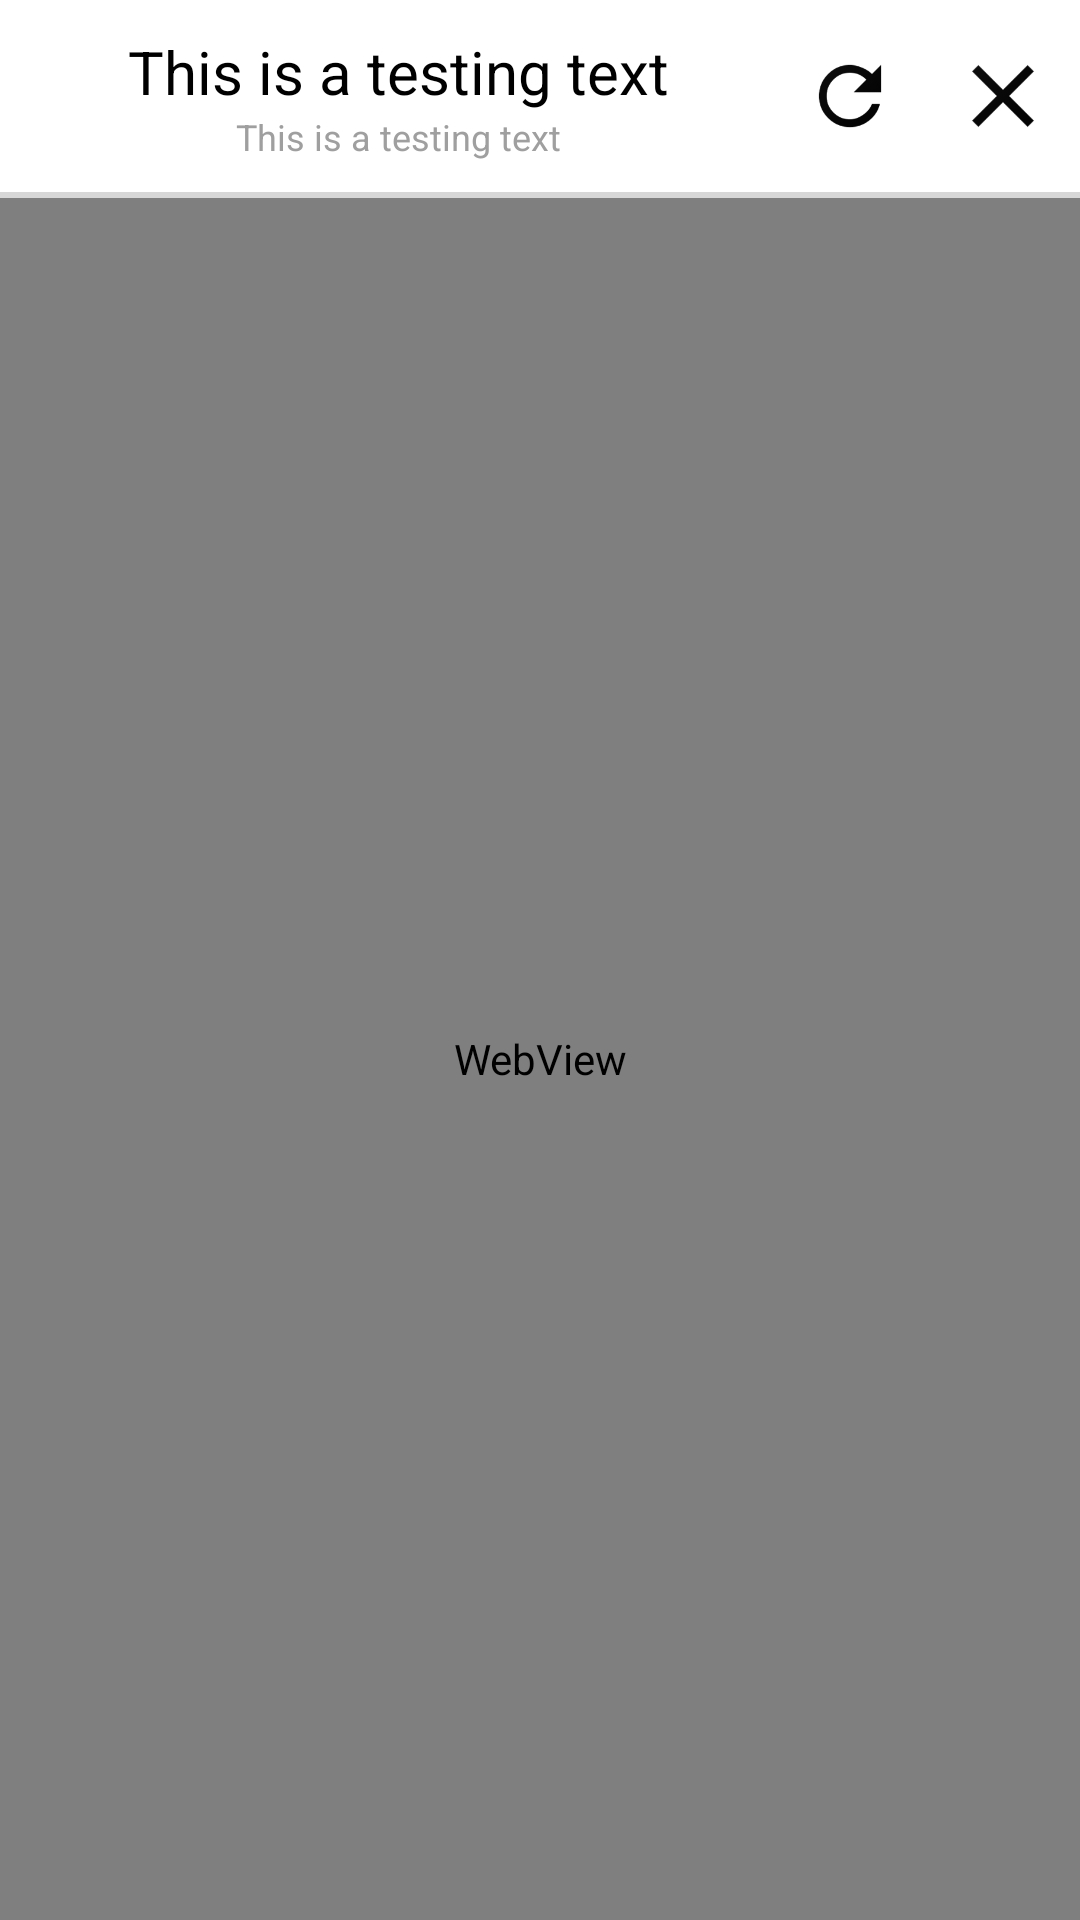

Where to tap for icons on this 1080*1920 app screen, as (x,y):
cross adaptive fore: (1003,96)
refresh adaptive fore: (850,96)
